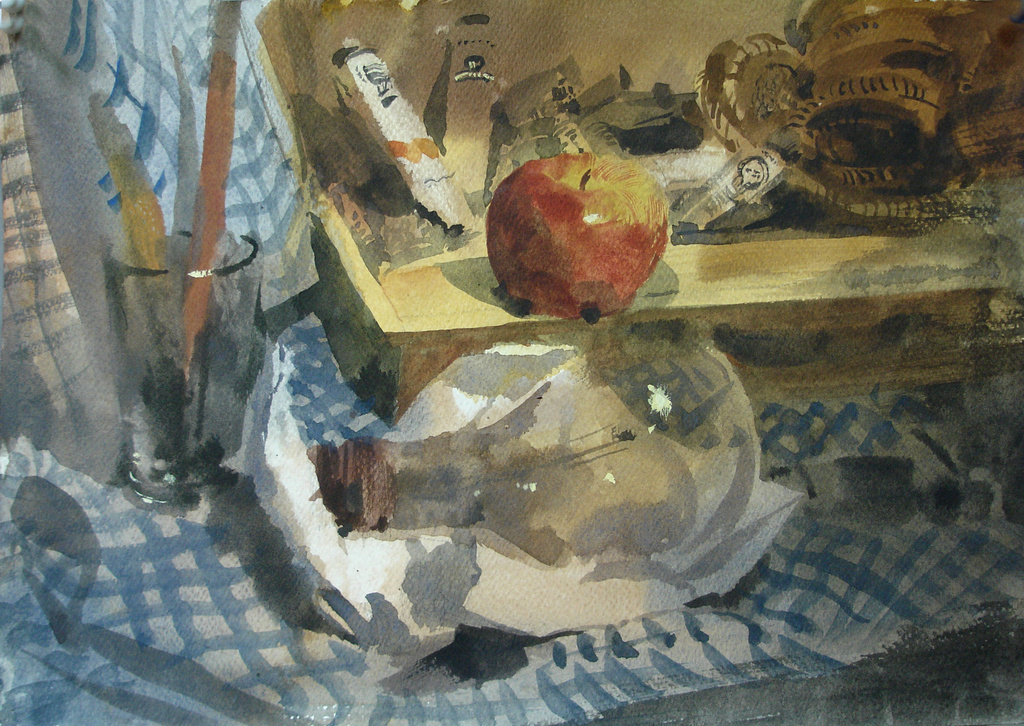Apple: (485, 133, 661, 310)
